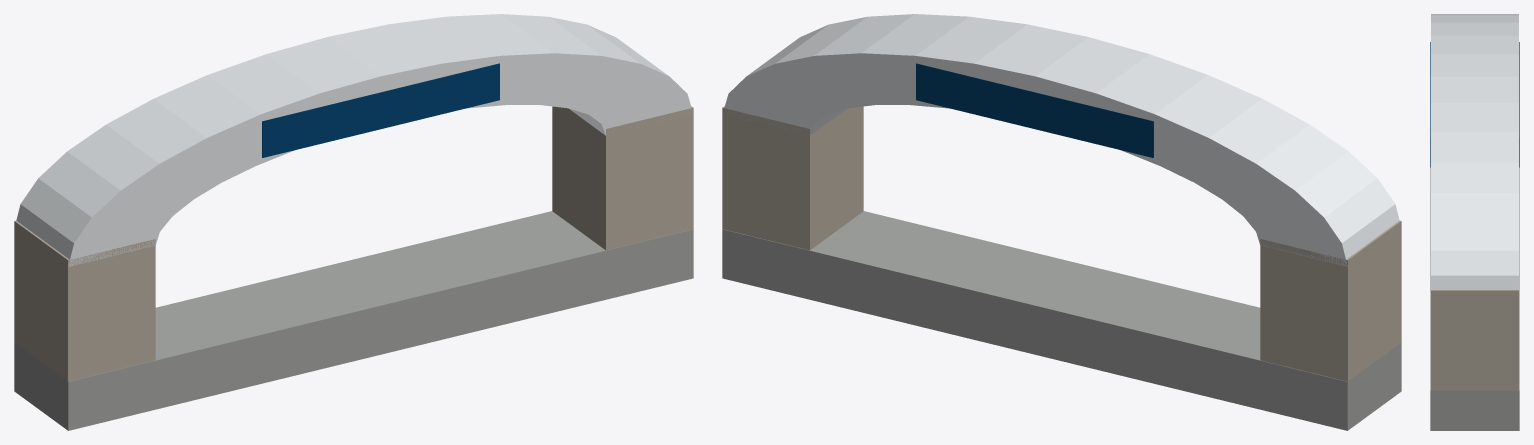
Rendered from gateway-arch.glb.
3 renders of one model, left to right at view 1: azimuth 30°, elevation 25°; view 2: azimuth 150°, elevation 25°; view 3: azimuth 270°, elevation 25°, orthographic. The views are drawn at different scales.
Visible parts, largest first — view 1: gateway-arch; view 2: gateway-arch; view 3: gateway-arch.
Boxes of the visible parts, bbox=[...] form: gateway-arch: bbox=[14, 14, 693, 430]; gateway-arch: bbox=[722, 14, 1401, 430]; gateway-arch: bbox=[1430, 14, 1519, 430].
Size of the model in its own units: 40 by 17 by 6.
